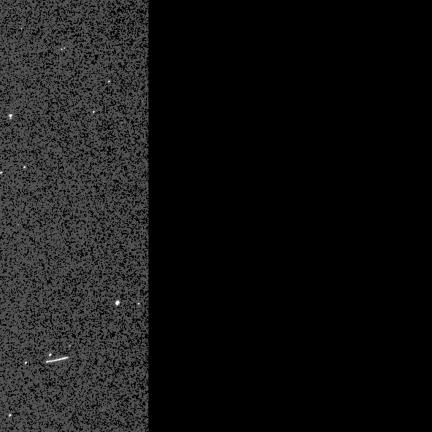blob: (9, 115, 12, 119), (116, 301, 119, 305), (49, 354, 52, 357), (24, 166, 27, 169), (25, 362, 28, 365), (9, 414, 12, 417), (93, 111, 96, 114), (138, 303, 141, 306), (108, 81, 111, 83)
streak: (46, 357, 68, 363)
